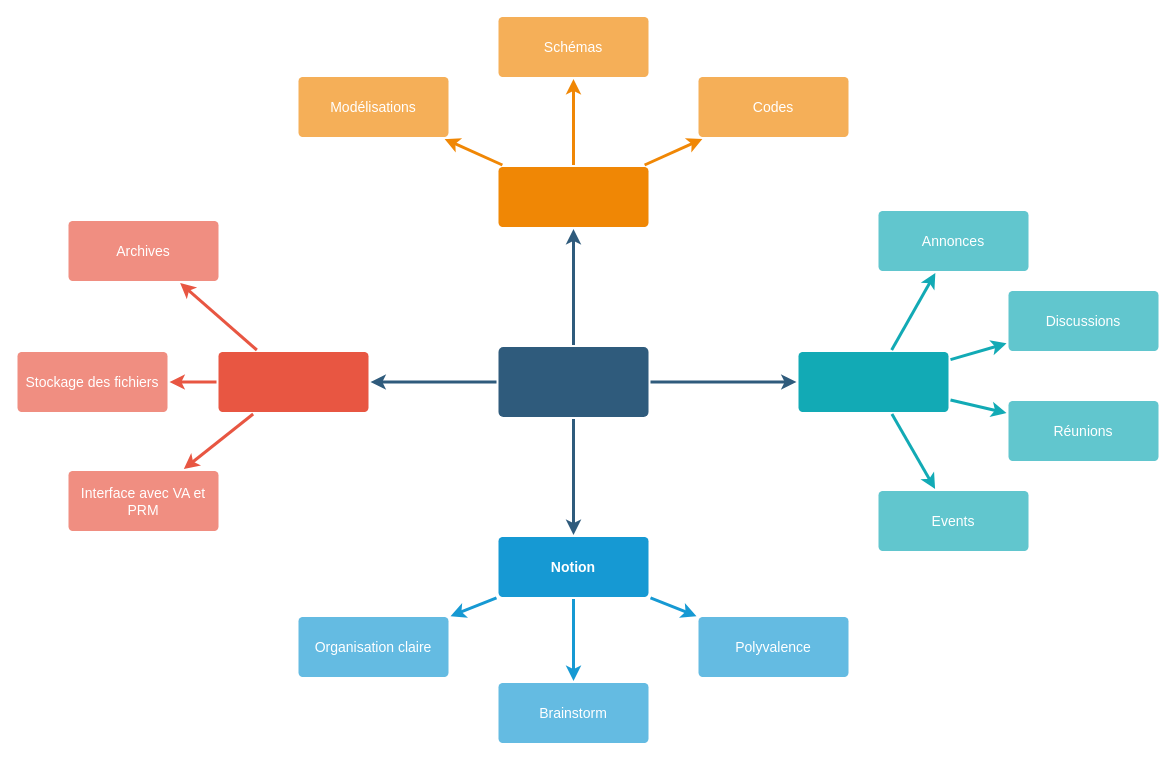
This 1175x760 diagram has some shape labels left out. Each missing label, with the centre of its shape:
"Discord" belongs at point 873,382.
"GitHub" belongs at point 573,196.
"Teams" belongs at point 293,382.
"TRAVELERS" belongs at point 573,381.
